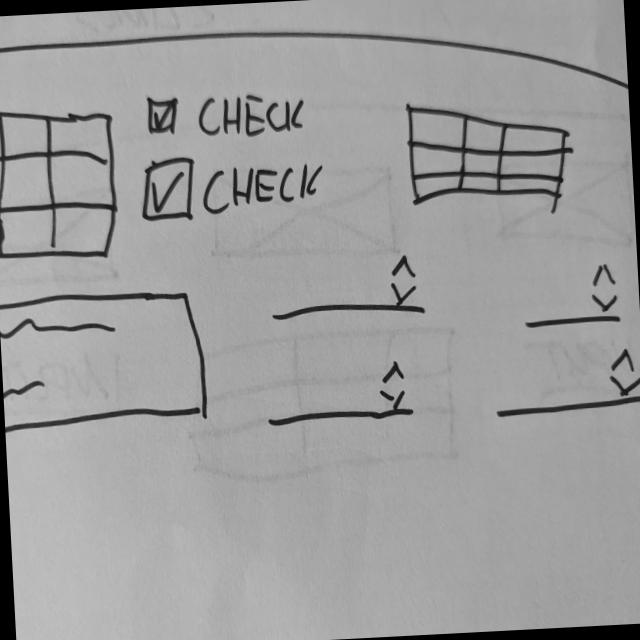checkbox: (136, 147, 328, 225), (143, 84, 310, 148)
number-input: (0, 284, 212, 443), (266, 250, 429, 326), (490, 344, 640, 420), (260, 358, 418, 430), (518, 259, 625, 333)
table: (0, 90, 123, 269), (402, 90, 576, 215)
